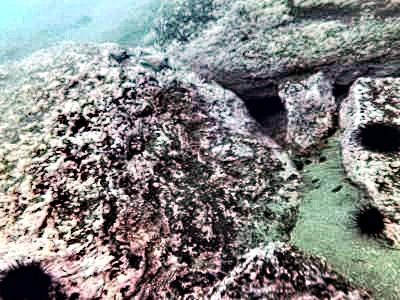urchin: (2, 263, 58, 295), (354, 114, 395, 155), (354, 204, 386, 237), (256, 95, 282, 110)
